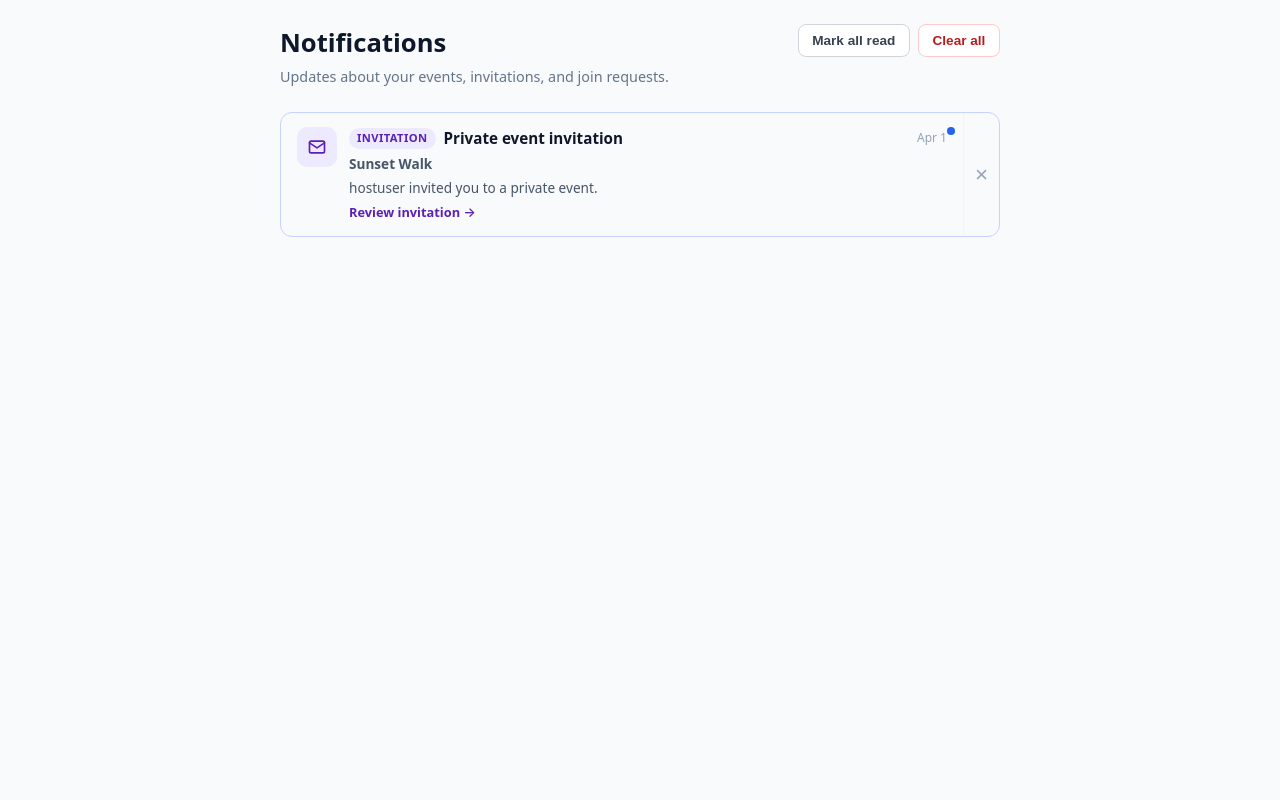
Test case: NotificationsPage invitation modal › shows a non-actionable canceled invitation state
Click the button with aria-label "review invitation". click: (317, 147)
box: top-left (281, 113), bottom-right (963, 236)
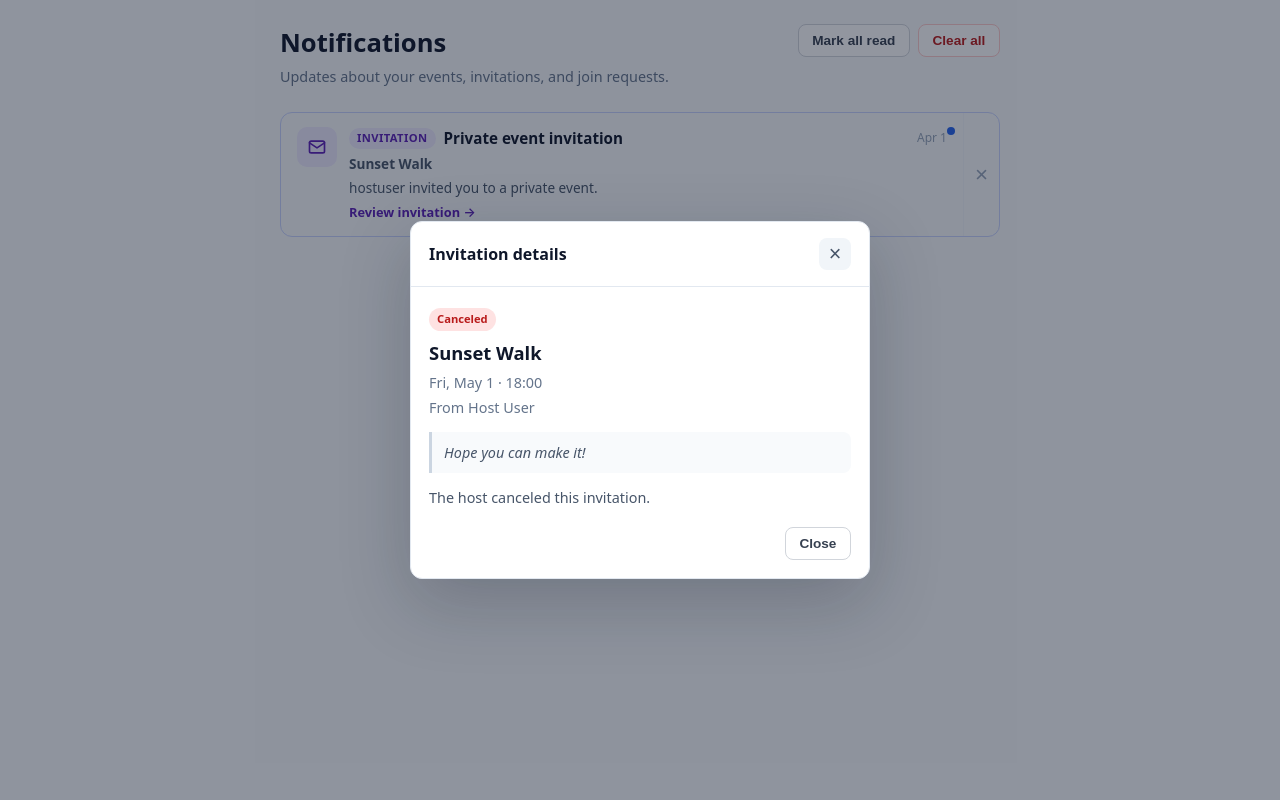
Check: the text "The host canceled this invitation." is shown, box top-left (429, 488), bottom-right (650, 507)
